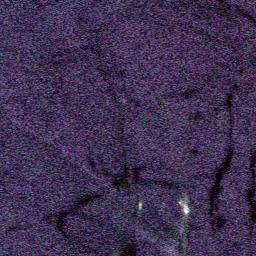Ship: (177, 196, 189, 216), (134, 197, 146, 212)
